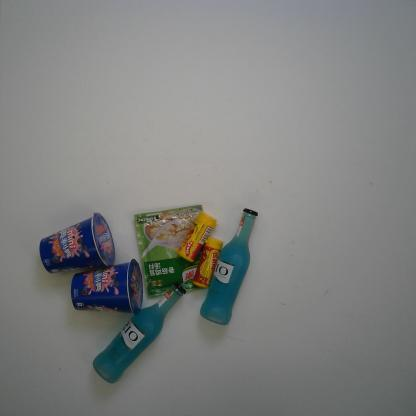Alcohol: (92, 283, 187, 383), (199, 208, 259, 326)
Candy: (177, 213, 218, 263), (192, 235, 224, 289)
Dessert: (39, 212, 116, 274), (70, 258, 143, 316)
Seasoner: (134, 204, 212, 299)
